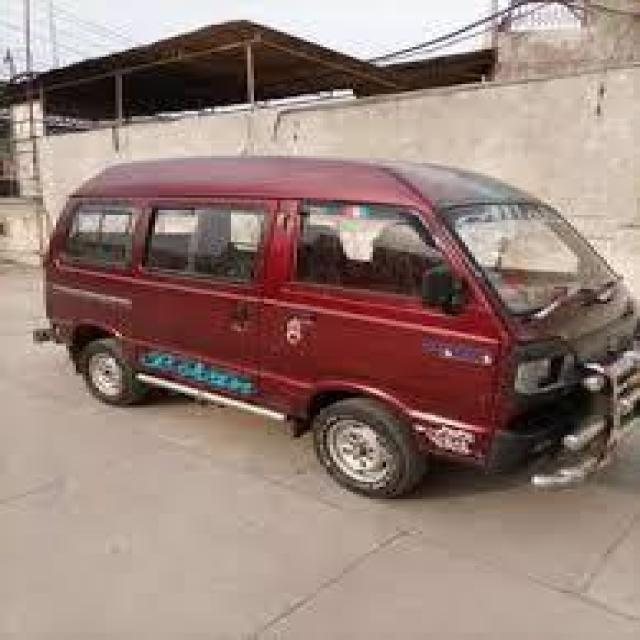van: (48, 142, 640, 542)
